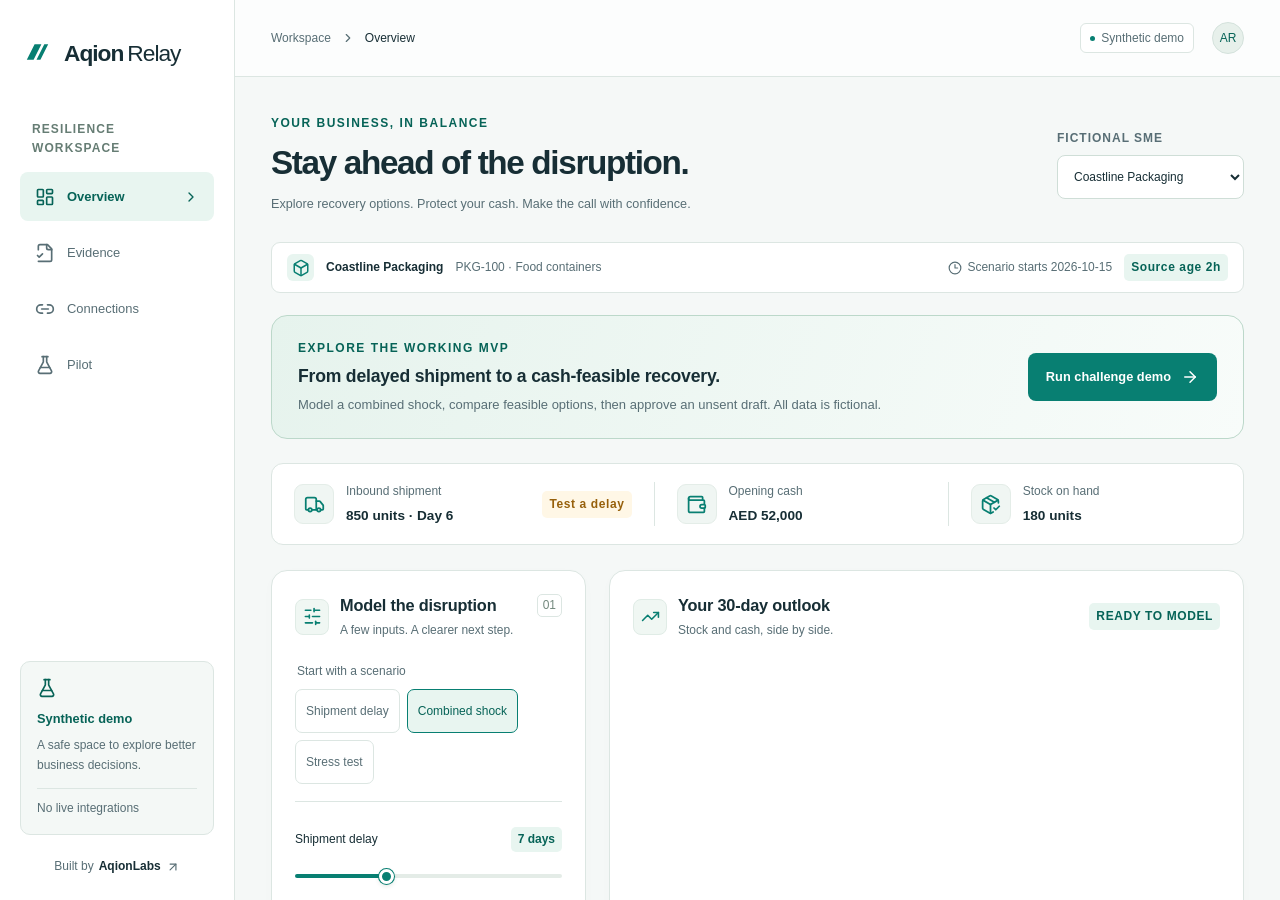
Test case: shows synthetic workspace with explicitly disconnected integrations
Check: the heading "Stay ahead of the disruption." is shown, box x1=271 y1=144 x2=691 y2=182
Check: the text "Synthetic demo" is shown, box x1=37 y1=711 x2=132 y2=726
Click the button "Connections".
click(117, 309)  # box x1=20 y1=284 x2=214 y2=333
(page scrolled)
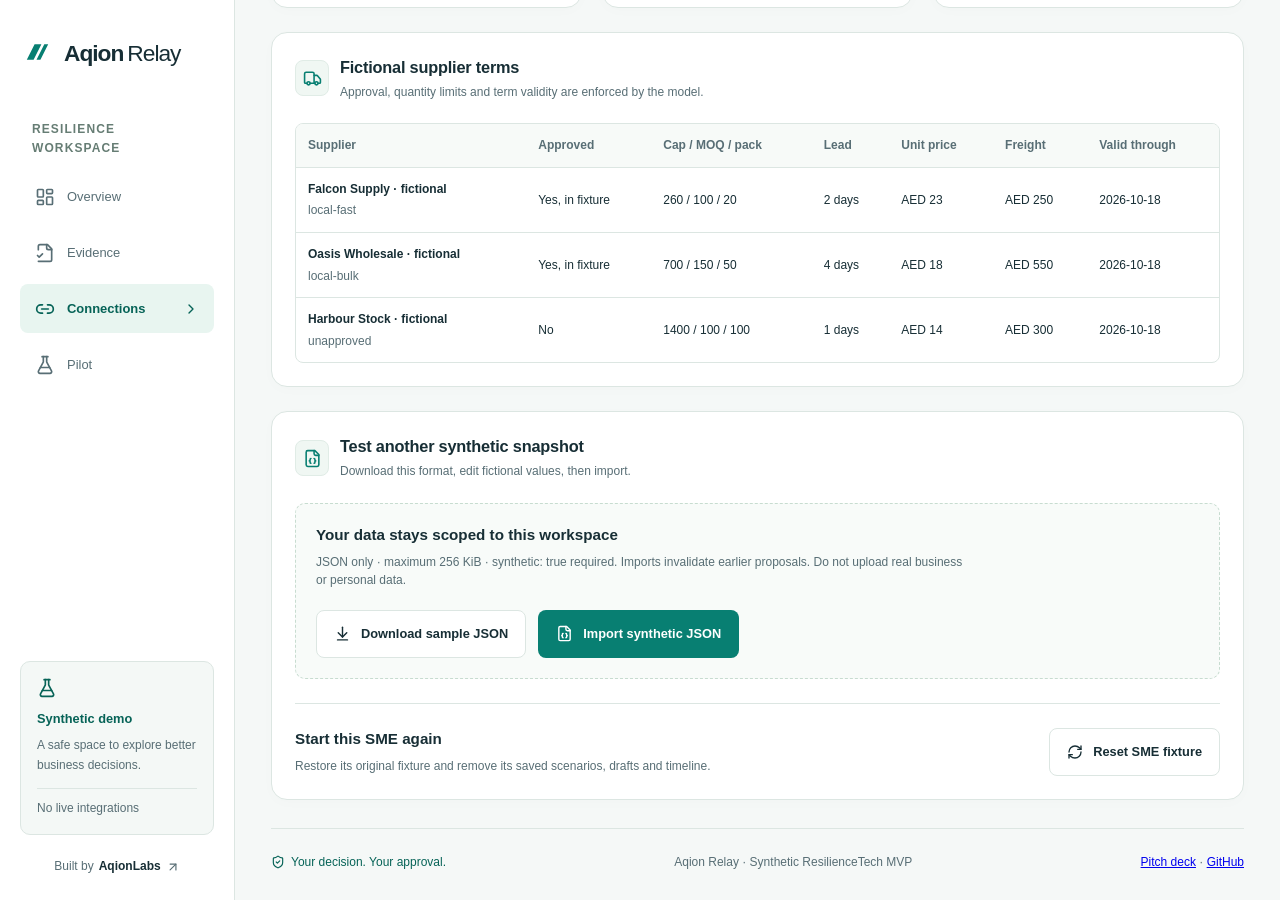
Check: the file field labelled "Import synthetic JSON" is shown, box x1=538 y1=610 x2=739 y2=658
